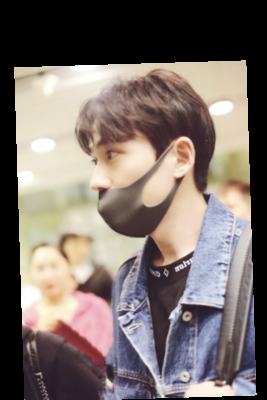mask_weared_incorrect: (68, 71, 221, 239)
